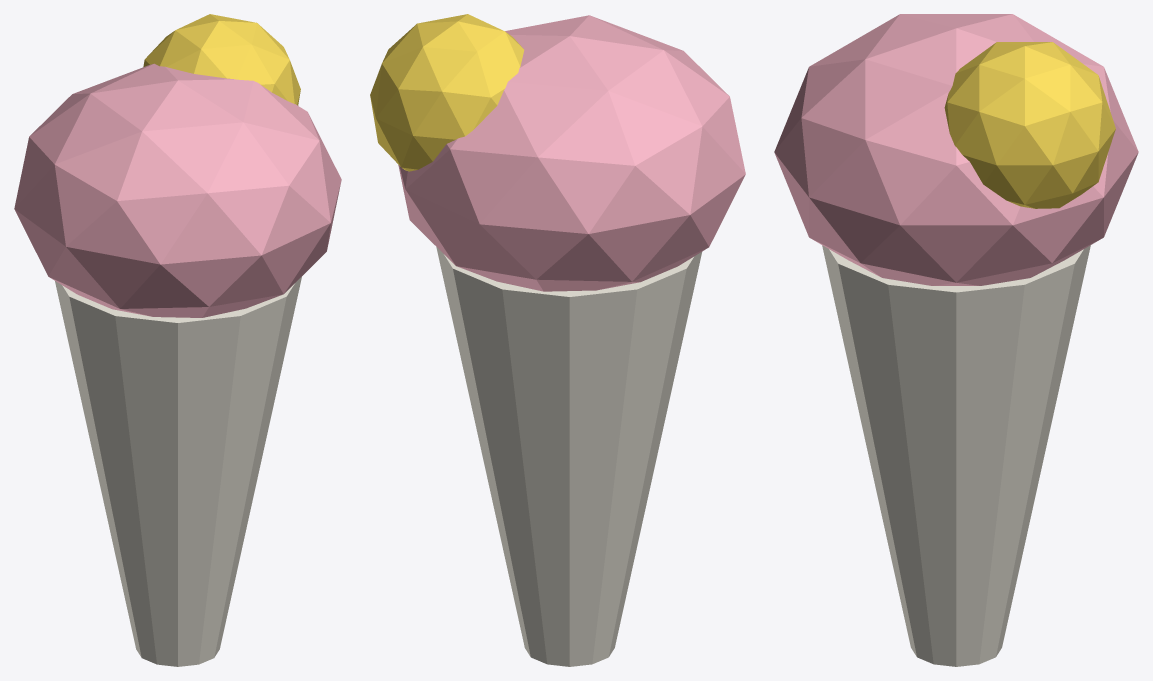
File: sm_product_flowers.glb
3 renders of one model, left to right at view 1: azimuth 30°, elevation 25°; view 2: azimuth 150°, elevation 25°; view 3: azimuth 270°, elevation 25°, orthographic. The views are drawn at different scales.
Visible parts, largest first — view 1: flowers_1, flowers_0, flowers_2; view 2: flowers_1, flowers_0, flowers_2; view 3: flowers_0, flowers_1, flowers_2.
Boxes of the visible parts, x1=… form: flowers_1: x1=14, y1=63, x2=341, y2=317; flowers_0: x1=55, y1=276, x2=301, y2=666; flowers_2: x1=143, y1=14, x2=300, y2=105; flowers_1: x1=398, y1=15, x2=745, y2=291; flowers_0: x1=436, y1=247, x2=701, y2=666; flowers_2: x1=370, y1=14, x2=524, y2=171; flowers_0: x1=822, y1=245, x2=1090, y2=666; flowers_1: x1=774, y1=14, x2=1138, y2=285; flowers_2: x1=944, y1=42, x2=1115, y2=208.
Size of what is drawn, in the model's own units: 0.1541 by 0.31 by 0.16.
